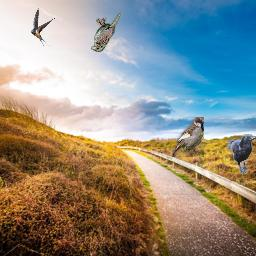Crow: (227, 134, 256, 174)
Sparrow: (172, 117, 204, 157), (91, 12, 121, 52)
Swallow: (31, 8, 56, 48)
